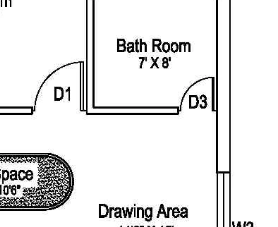door: (29, 56, 86, 118), (174, 67, 216, 120)
window: (205, 166, 242, 227)
